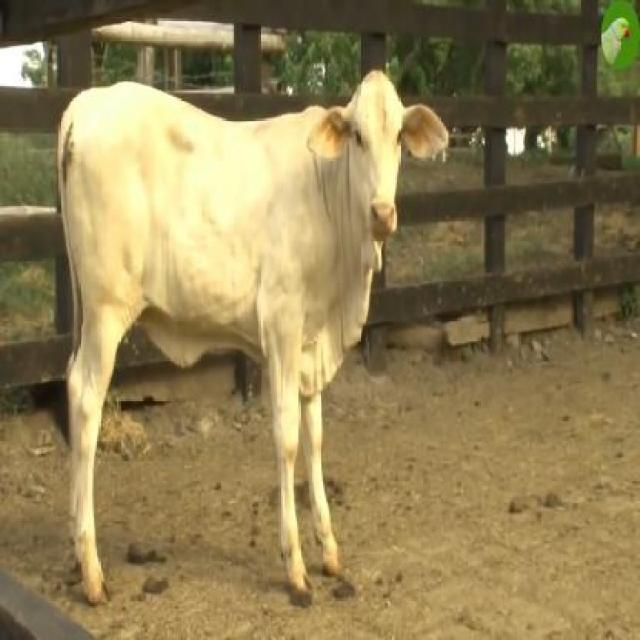Cow: (57, 71, 449, 609)
